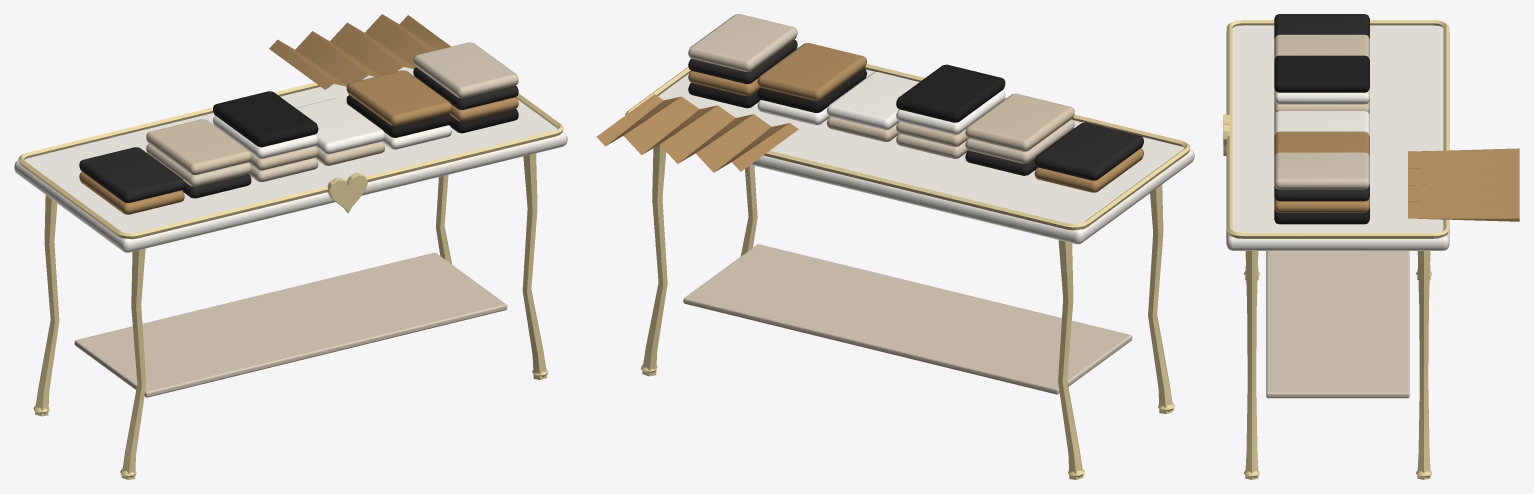
Rendered from table_display_long.glb.
The picture shows the model from 3 angles, left to right: view 1: azimuth 30°, elevation 25°; view 2: azimuth 150°, elevation 25°; view 3: azimuth 270°, elevation 25°; orthographic projection. The views are drawn at different scales.
Visible parts, largest first — view 1: table_display_long; view 2: table_display_long; view 3: table_display_long.
Boxes of the visible parts, x1,y1,x2,y2 form: table_display_long: [14, 14, 567, 479]; table_display_long: [596, 14, 1194, 479]; table_display_long: [1223, 14, 1519, 479].
Size of the model in its own units: 1.6 by 1.02 by 0.93.
